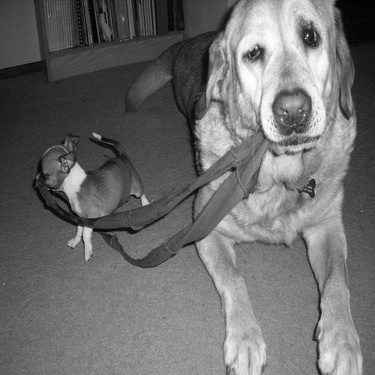dog: (118, 1, 367, 369), (30, 127, 156, 265)
